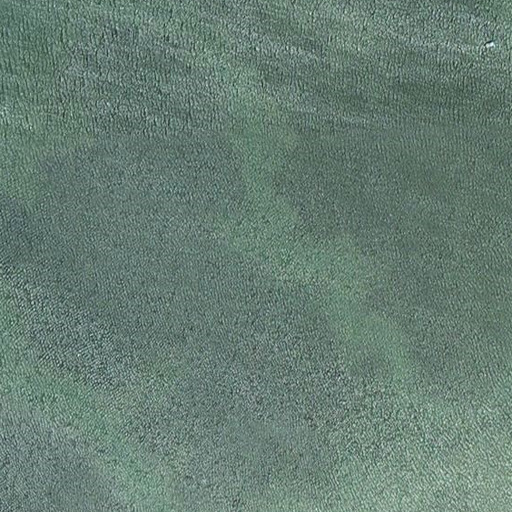ship: (483, 39, 496, 50)
